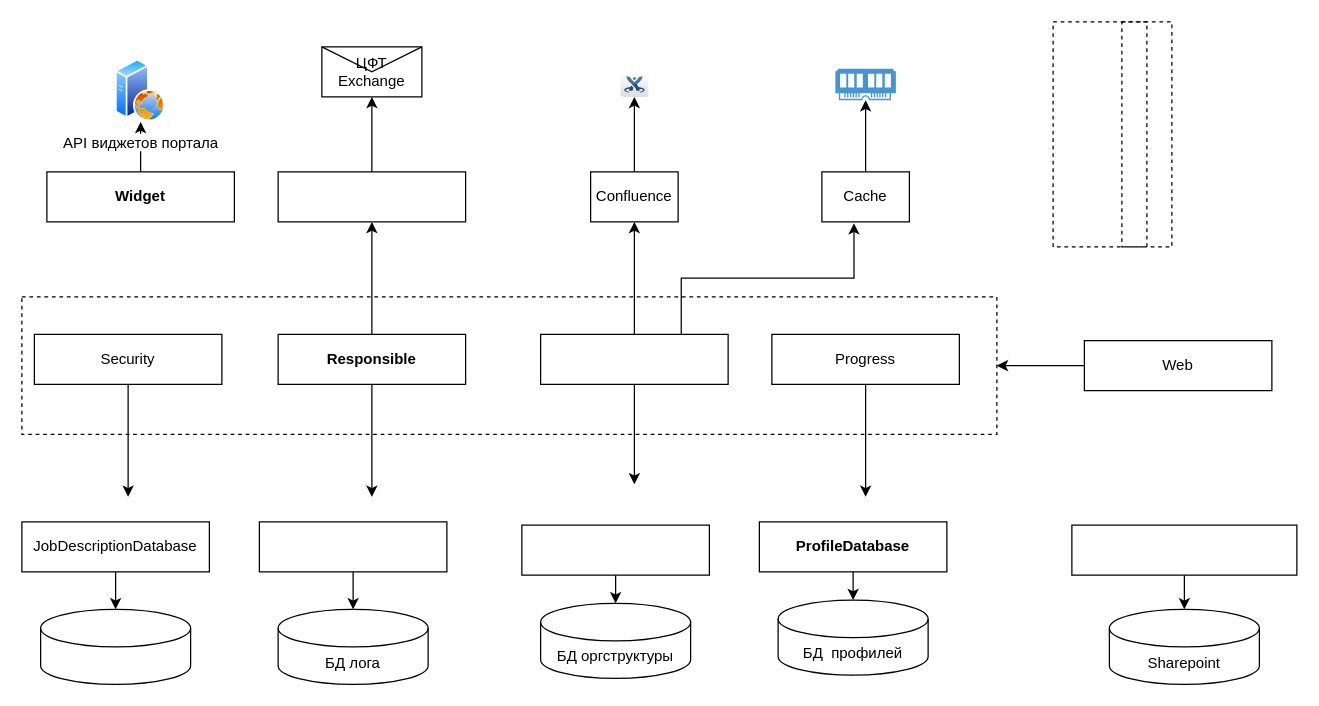
Some shapes in this 1319 by 706 pixel diagram are drawn without their labels. The shapes that lost their labels are listed below. From the top down, each one's box as (x1, y1, x2, y2) in pixels, then its label:
(619, 71, 648, 97): Конфлюеннс ЦФТ
(835, 68, 895, 100): ОЗУ
(277, 171, 466, 222): Notify
(539, 333, 728, 384): Profile
(258, 521, 447, 572): Logger
(521, 524, 709, 575): Orgstructura
(1071, 524, 1297, 575): JobDescriptionSharepoint
(39, 608, 191, 684): БД JobDescription
